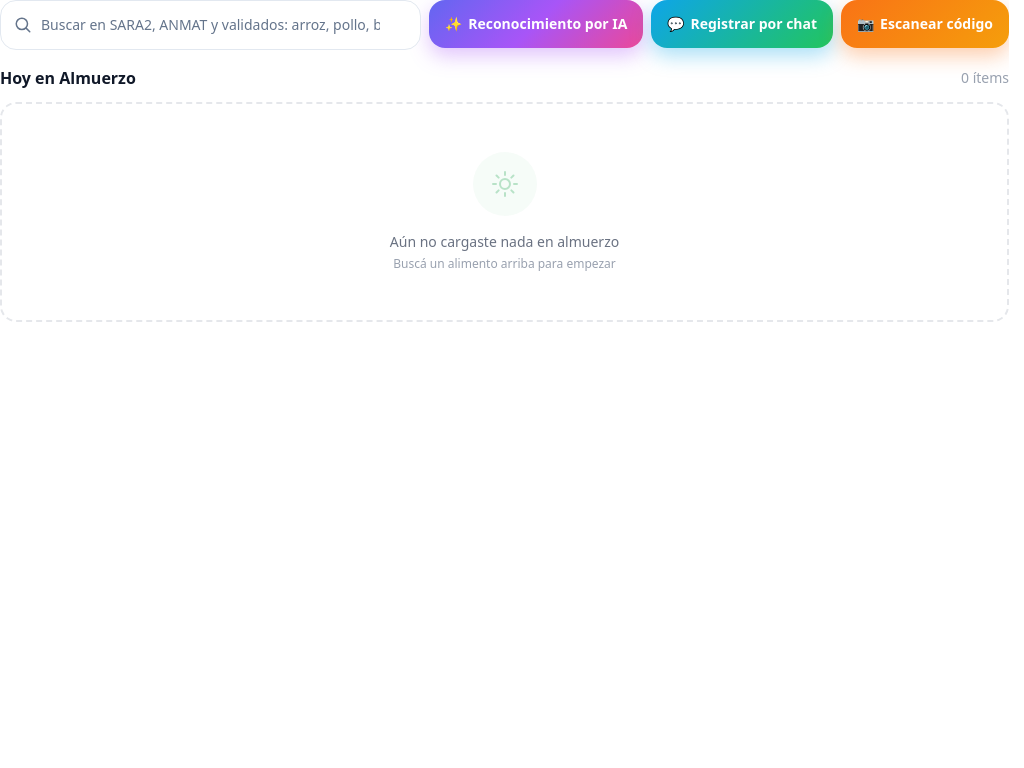
it: Buscador de alimentos — integración ANMAT + SARA2 › comportamiento del buscador › no resalta nada en "Recientes" (no hay búsqueda)
Click the field: (211, 25) [0,0,421,50]
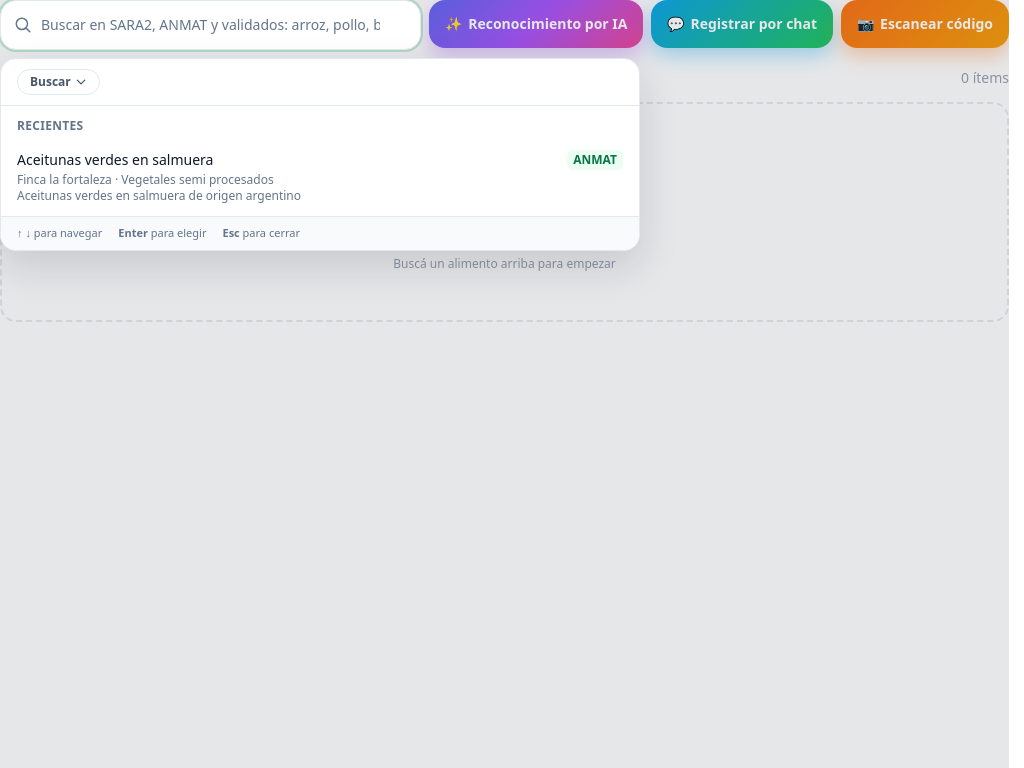
Now the text "Aceitunas verdes en salmuera" is shown, box [17,150,214,169]
